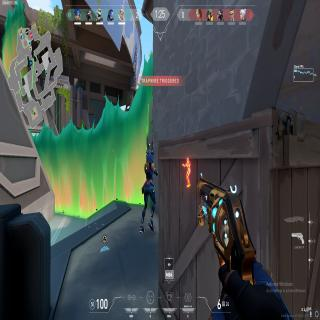ENEMY-BODY: (181, 154, 193, 189)
ENEMY-HEAD: (186, 157, 189, 163)
